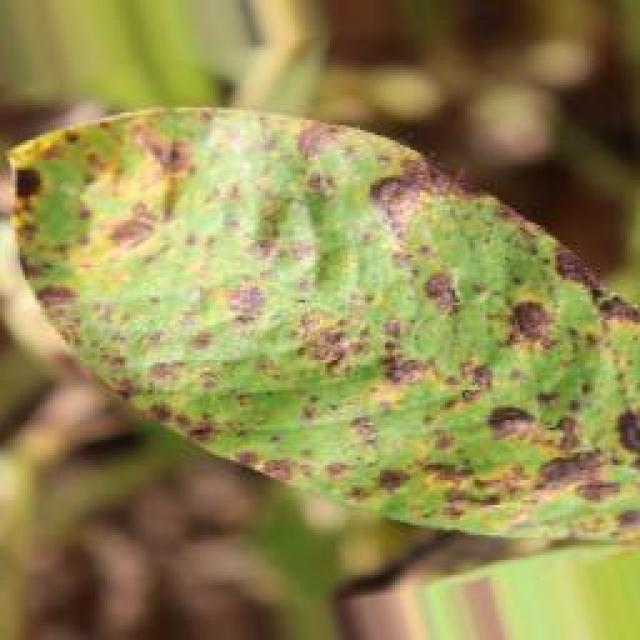Yellowish: (0, 92, 640, 544)
